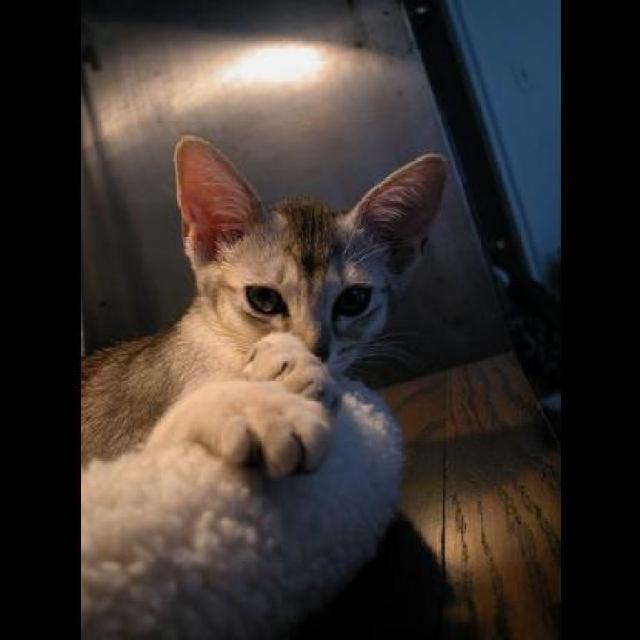unauthorized: (79, 132, 448, 480)
